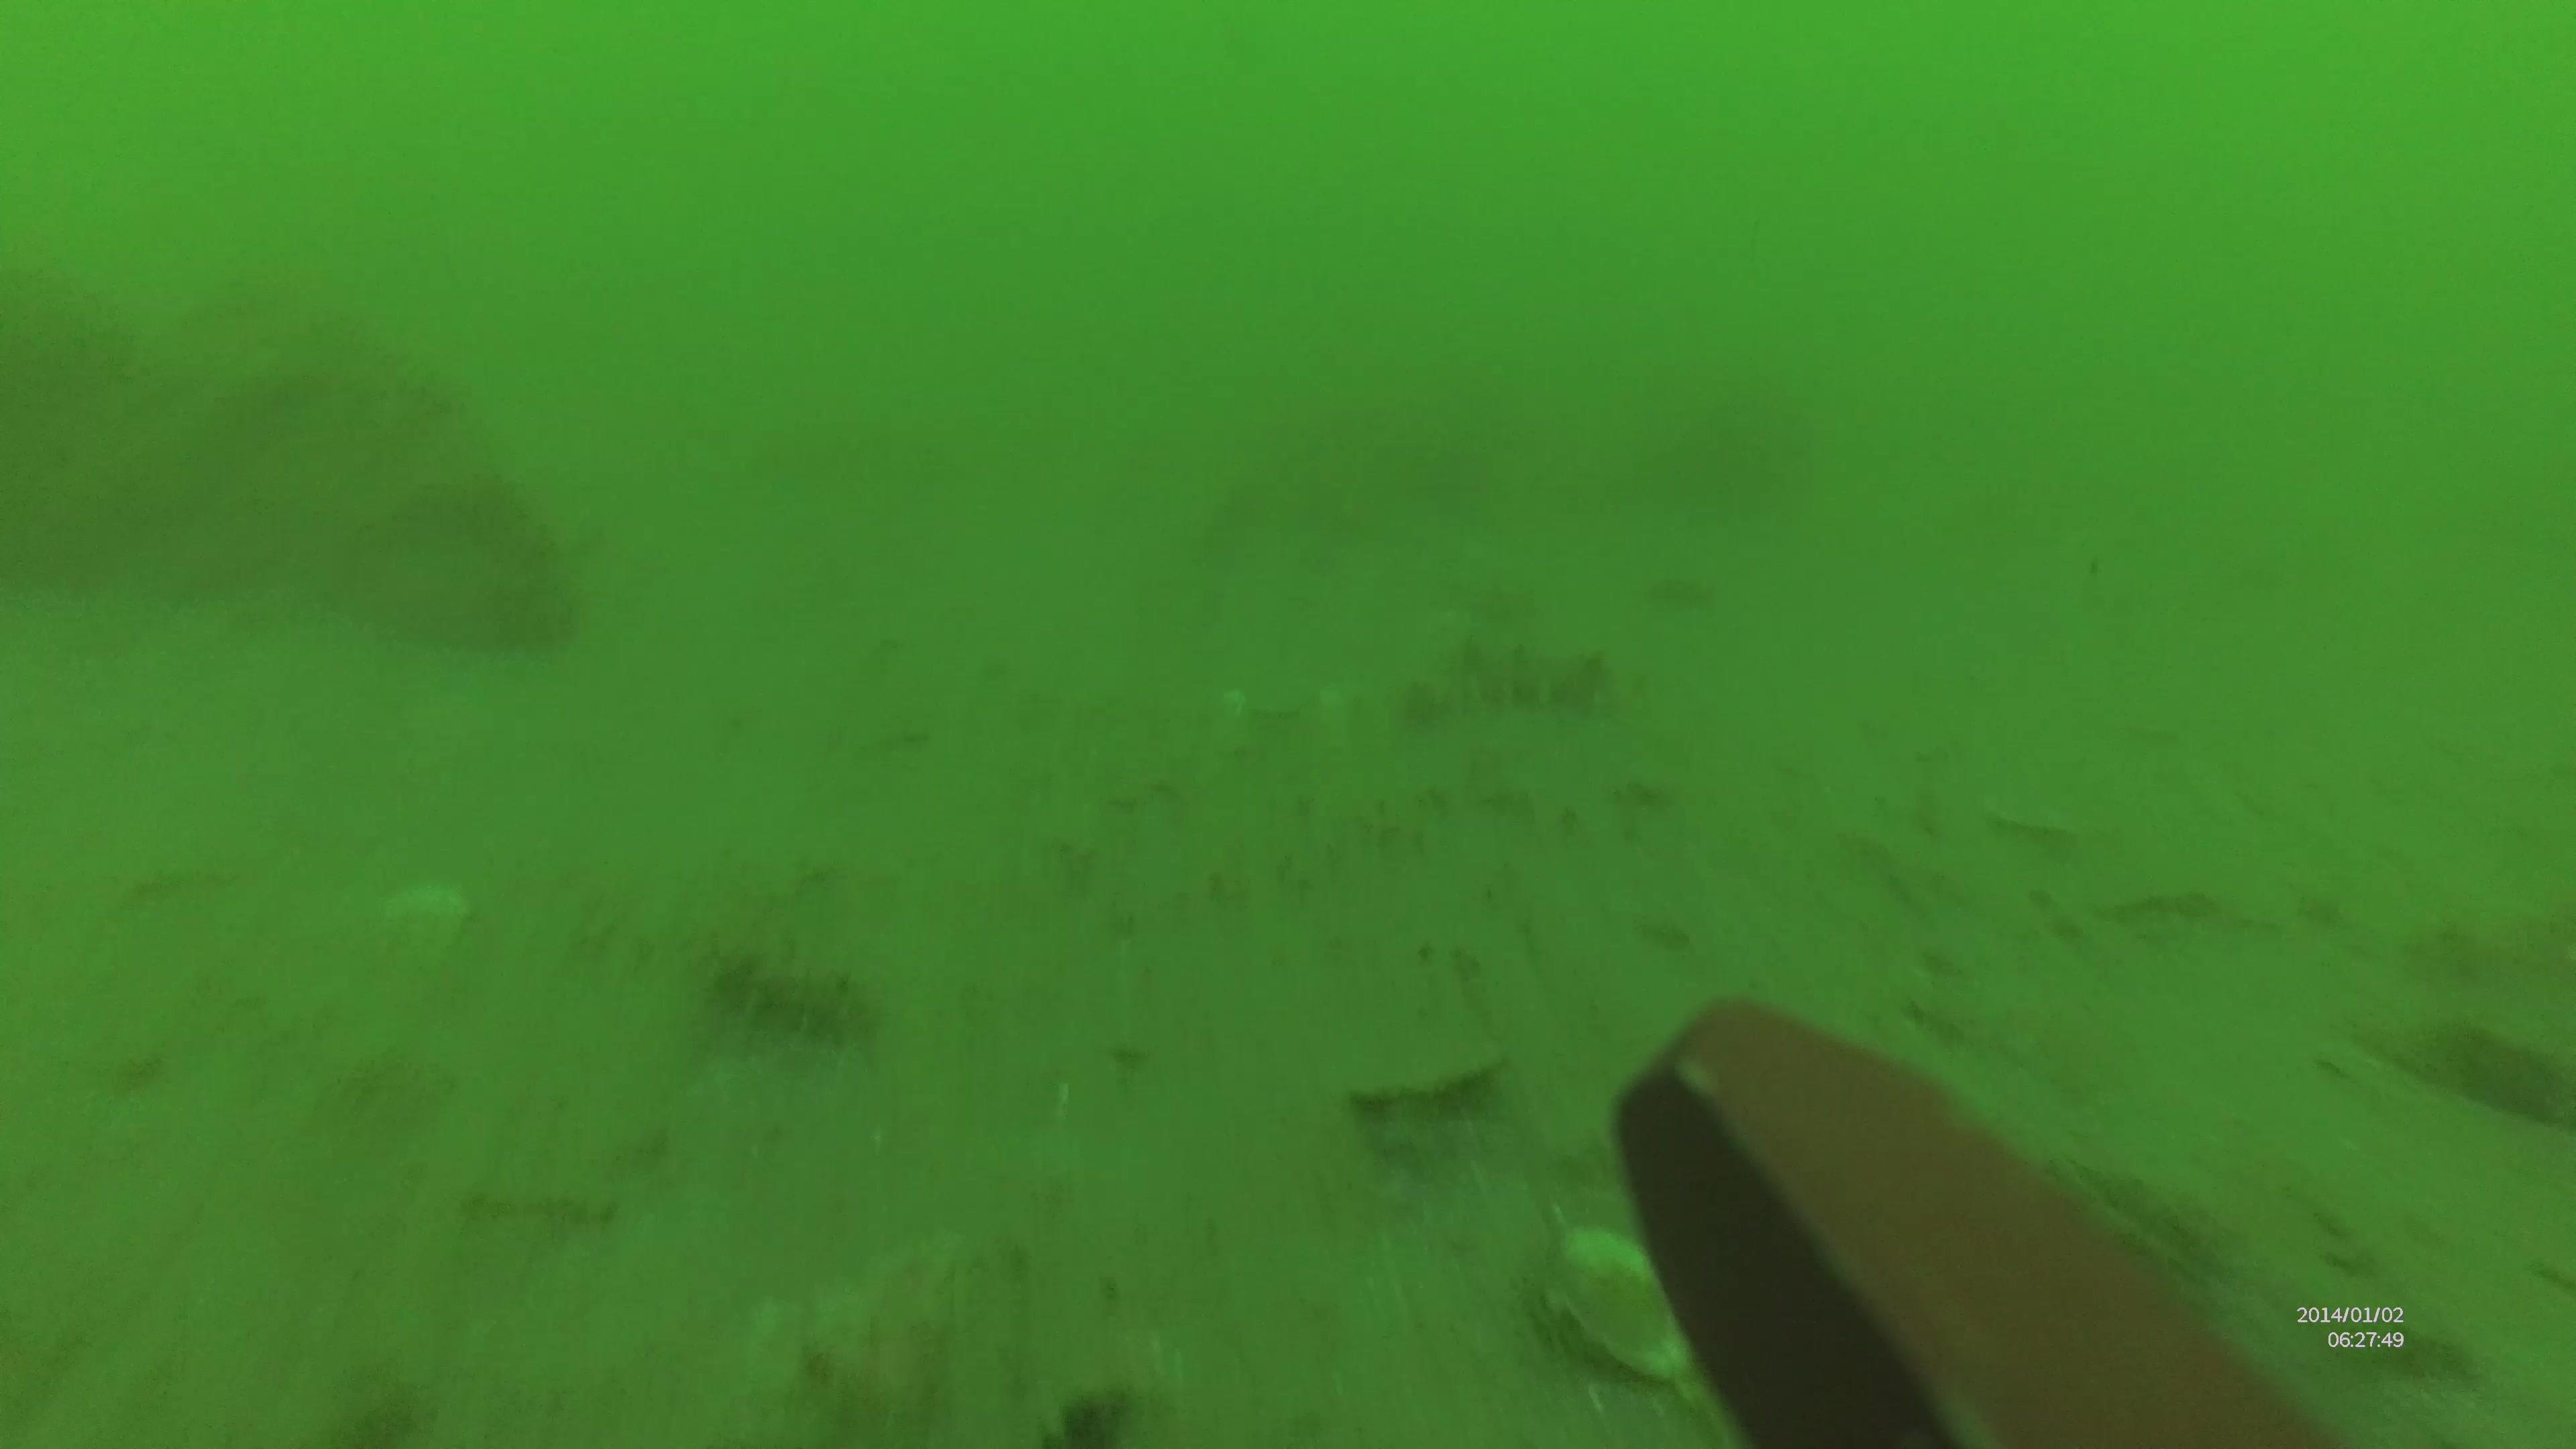holothurian: (697, 938, 888, 1069), (1410, 644, 1629, 720)
scallop: (1348, 1039, 1504, 1122)
